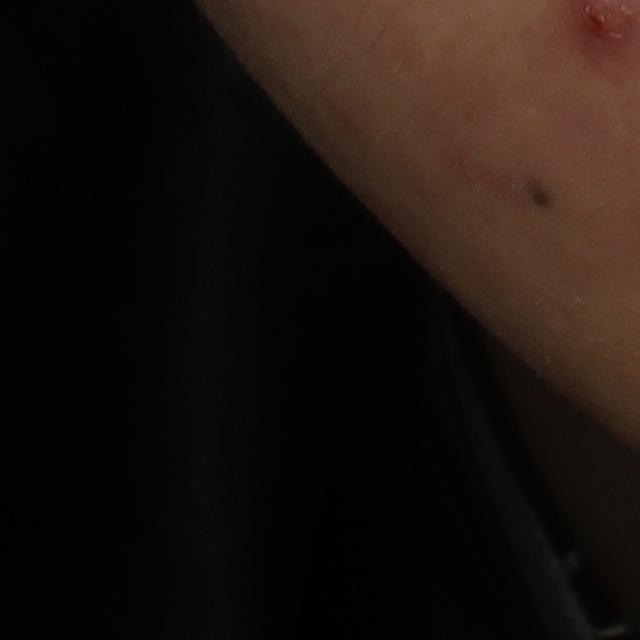nevus: (526, 178, 556, 206)
